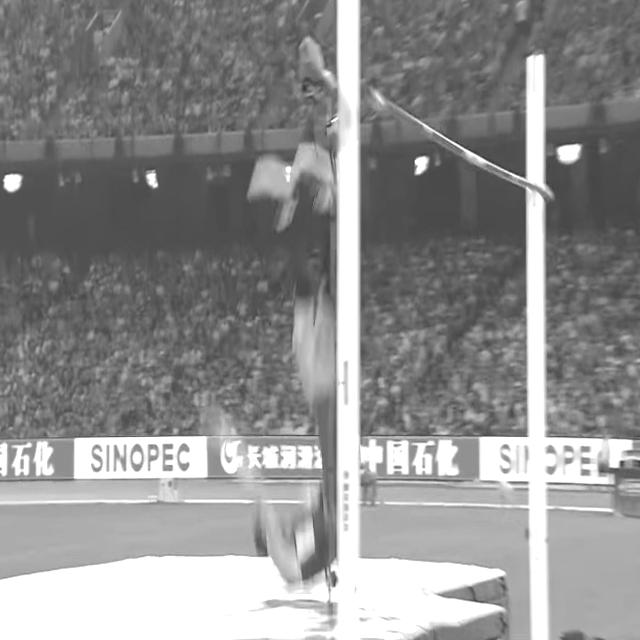land: (247, 141, 336, 585)
